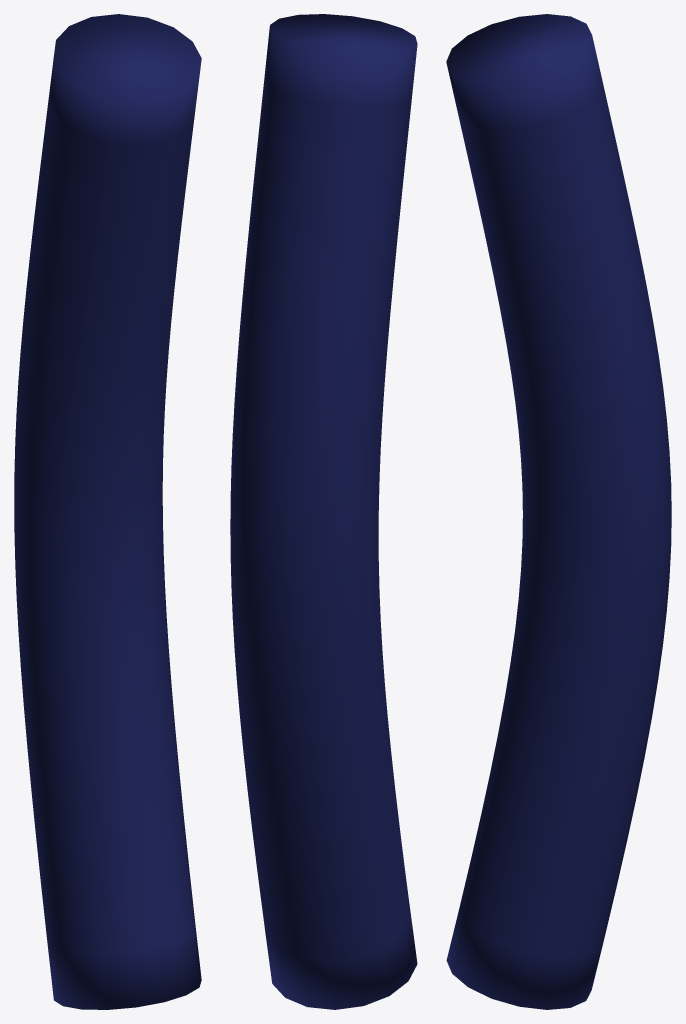
File: Volume4.fbx
3 renders of one model, left to right at view 1: azimuth 30°, elevation 25°; view 2: azimuth 150°, elevation 25°; view 3: azimuth 270°, elevation 25°, orthographic.
Parts seen in each view (by area): view 1: Volume4; view 2: Volume4; view 3: Volume4.
Part boxes in pixels (x1,y1,x2,y2): Volume4: (14, 14, 201, 1009); Volume4: (230, 14, 417, 1009); Volume4: (446, 14, 671, 1009).
Bounding box in the file's own units: 32.2 × 228 × 48.78.
